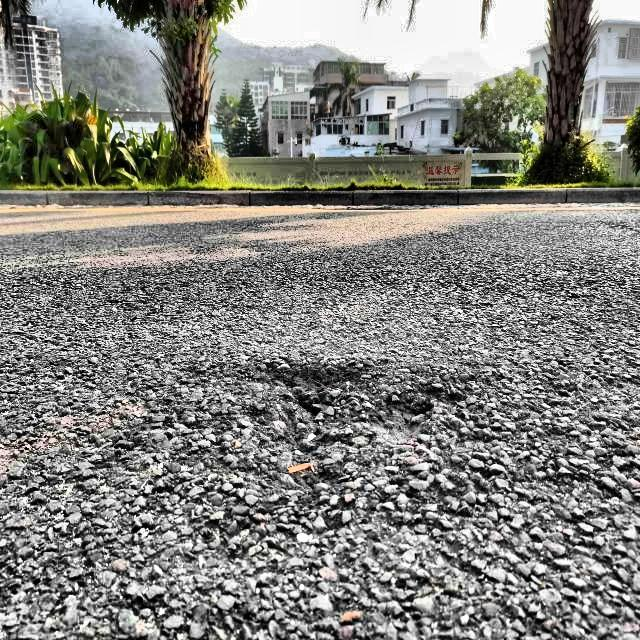buraco: (157, 358, 518, 553)
